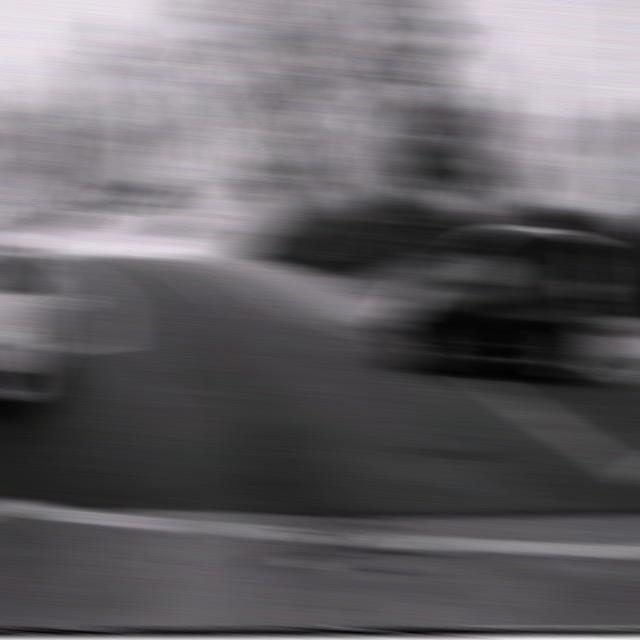pedestrianCrossing: (46, 171, 84, 203)
